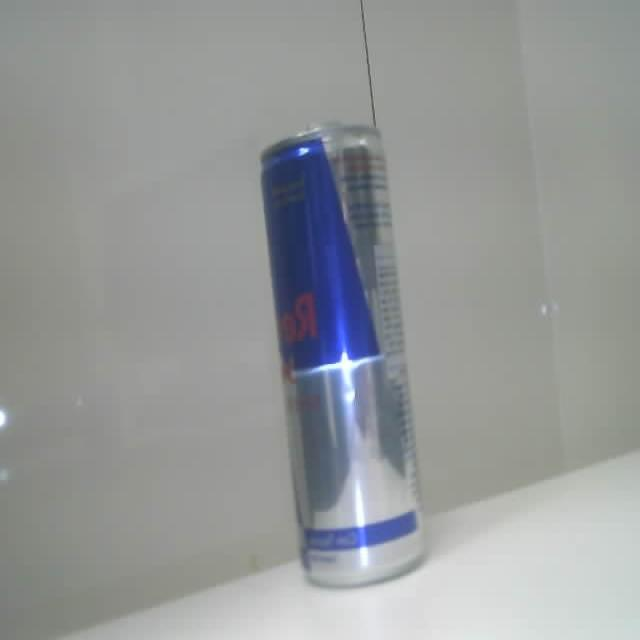redbull can: (262, 126, 422, 585)
